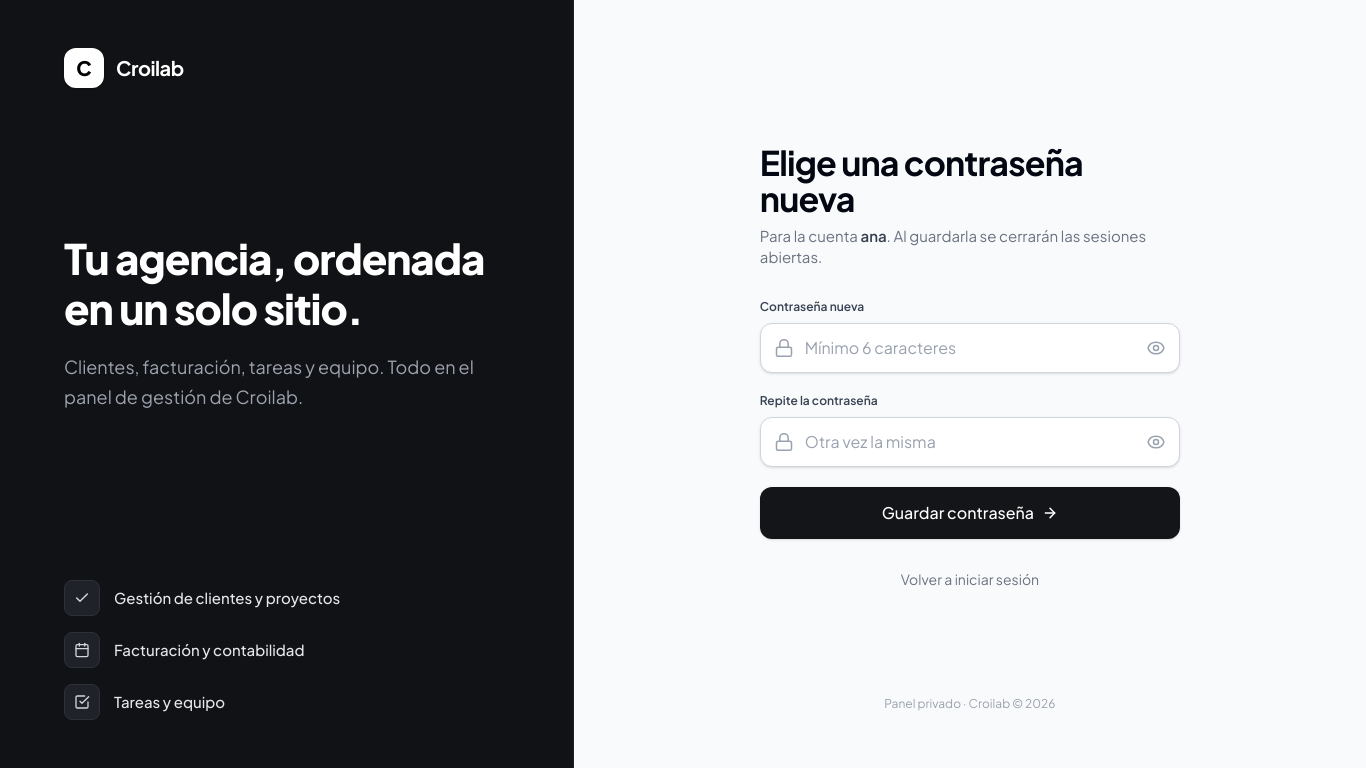
Restablecer › comprueba que las dos contraseñas coinciden antes de enviar
expect the text "ana" is shown: met, box [860,226,887,245]
Type "Nueva-clave-1" into the password field labelled "Contraseña nueva".
click(970, 348); type("Nueva-clave-1")  # box [760,323,1180,373]
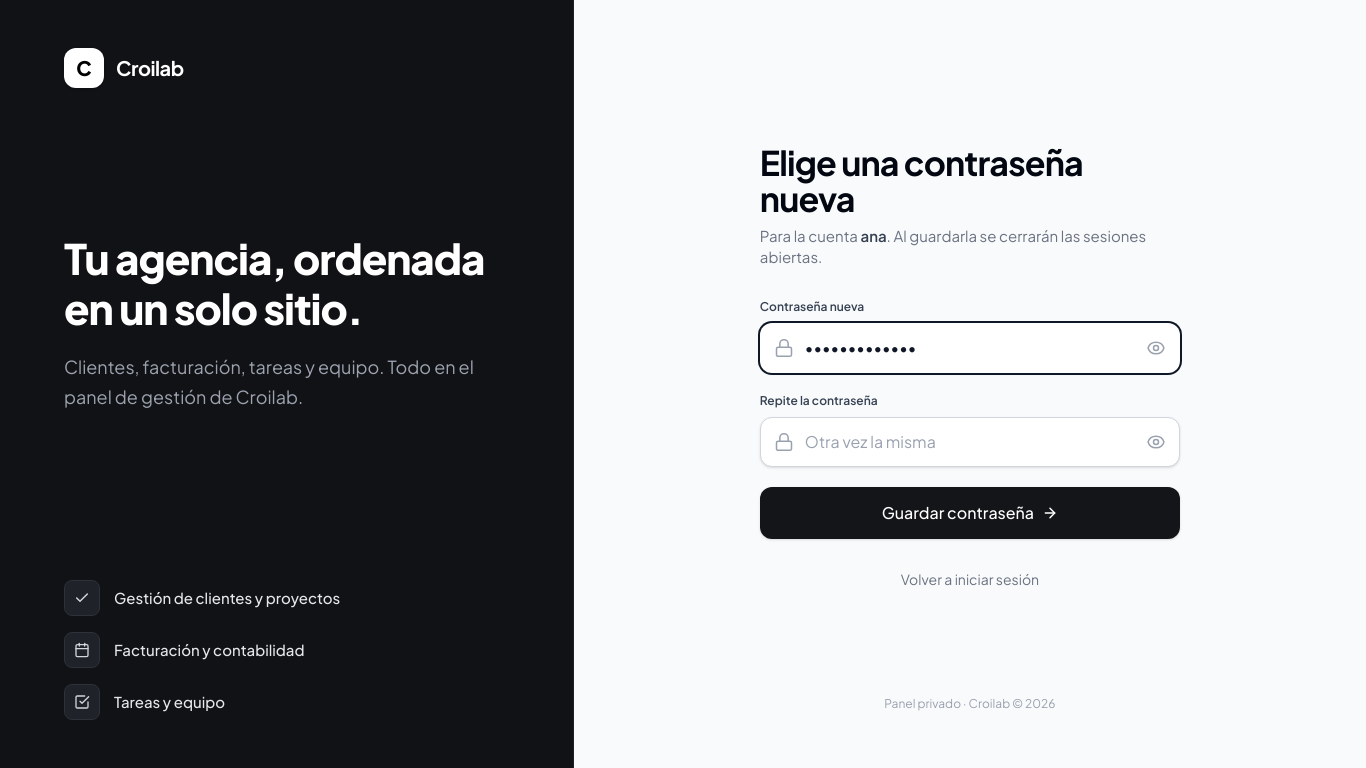
Type "Otra-clave-2" into the password field labelled "Repite la contraseña".
click(970, 442); type("Otra-clave-2")  # box [760,417,1180,467]
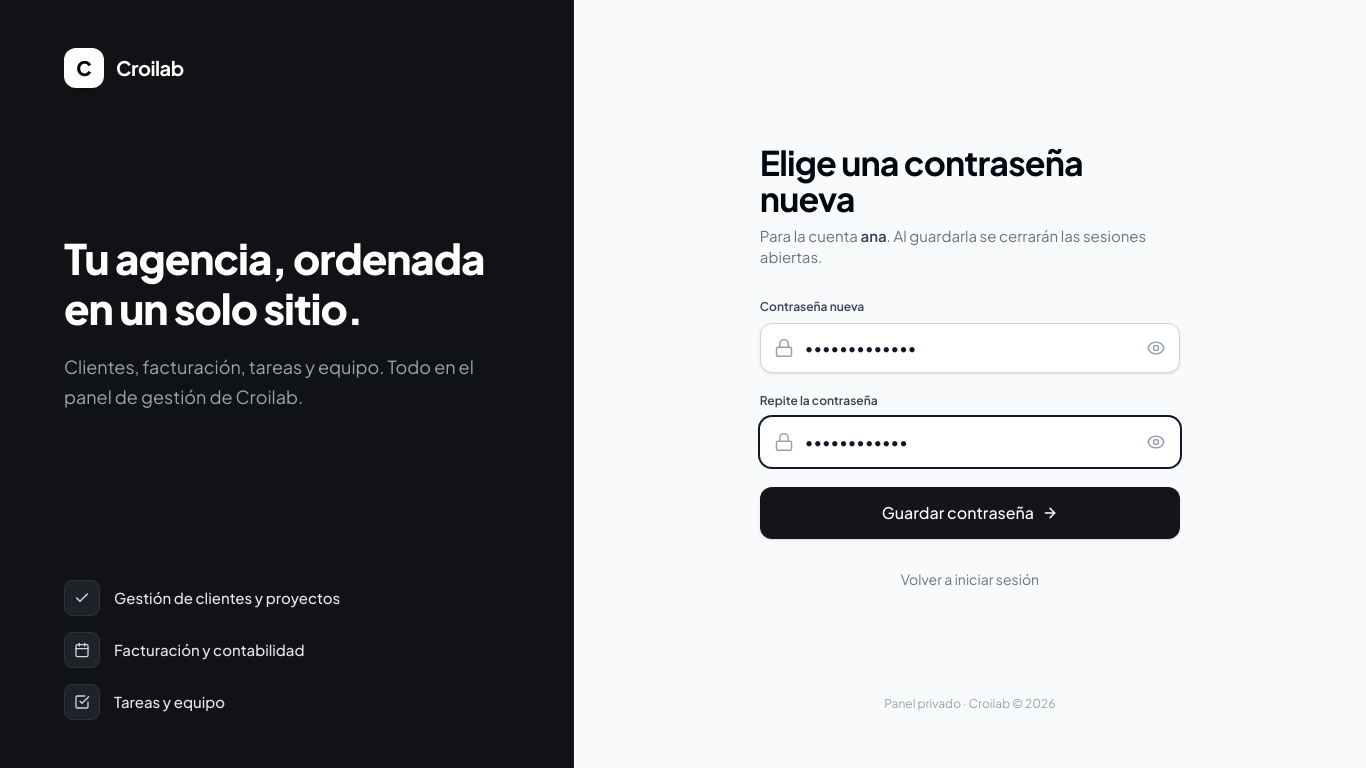
Click the button "Guardar contraseña".
click(970, 513)  # box [760,487,1180,539]
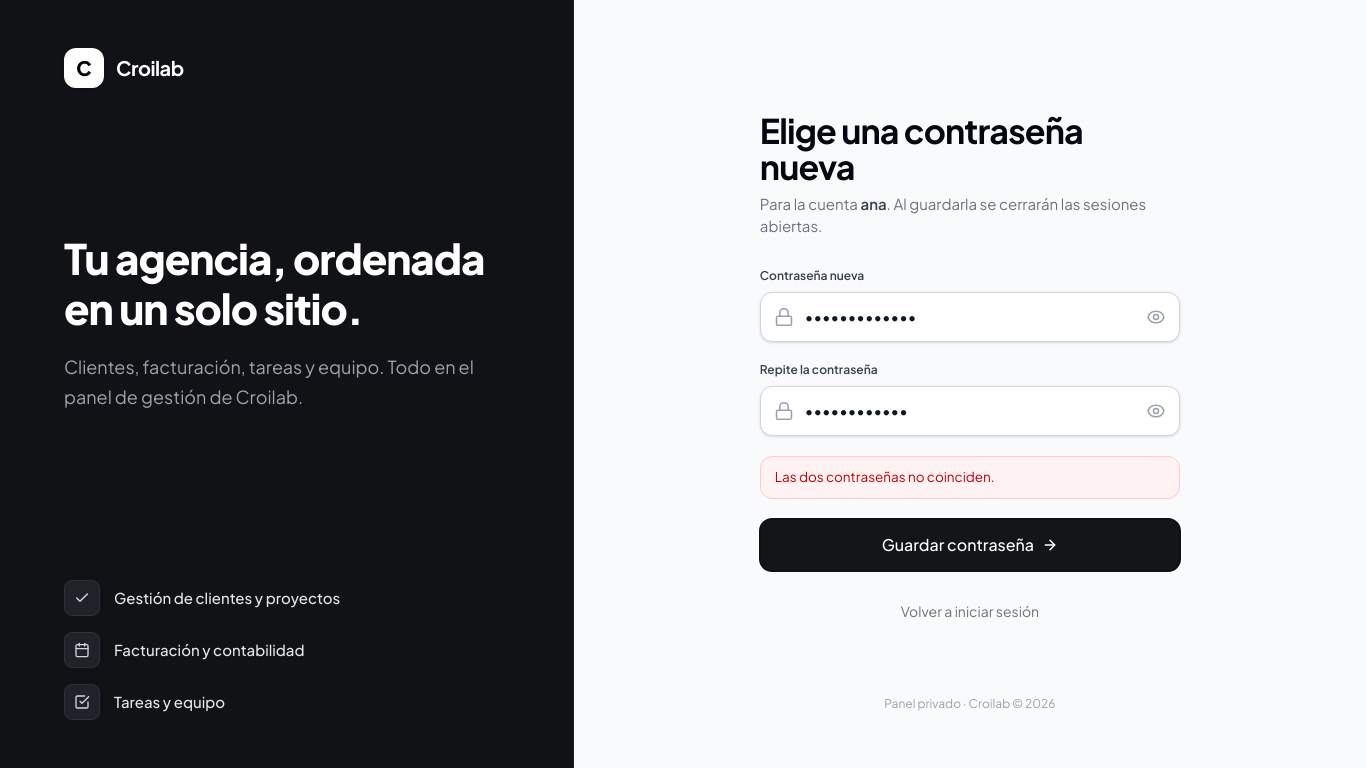
expect the message shows "no coinciden": met, box [775,468,995,485]
